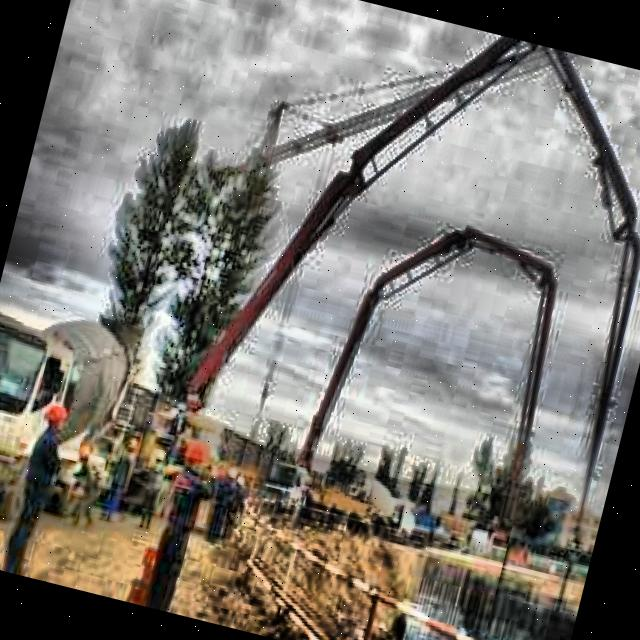helmet: (183, 432, 219, 477), (38, 401, 74, 443)
